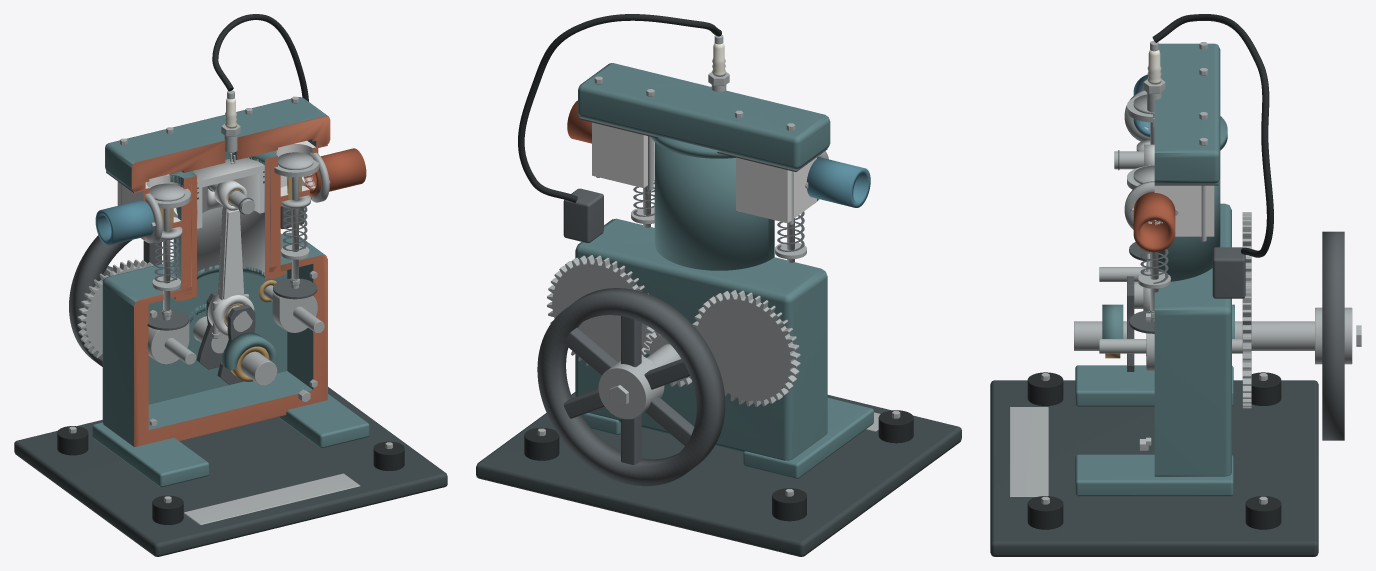
Rendered from four-stroke-engine.glb.
3 renders of one model, left to right at view 1: azimuth 30°, elevation 25°; view 2: azimuth 150°, elevation 25°; view 3: azimuth 270°, elevation 25°, orthographic. The views are drawn at different scales.
Parts seen in each view (by area): view 1: Laboratory engine cradle, Crankcase | solid cutaway casting, T-head cylinder head | sectional, Cylinder liner | honed steel, Cast foot flange, Brushed specification plate, Cast foot flange.001, Piston | ring grooves and hollow skirt, Water-jacket barrel | cutaway, Flywheel heavy rim, Intake port | wall and bore, Intake 40 tooth camshaft timing gear (+26 smaller); view 2: Laboratory engine cradle, Crankcase | solid cutaway casting, T-head cylinder head | sectional, Flywheel heavy rim, Water-jacket barrel | cutaway, Intake 40 tooth camshaft timing gear, Exhaust 40 tooth camshaft timing gear, Inlet valve pocket casting, Cast foot flange, Exhaust valve pocket casting, High voltage ignition cable | export mesh, Intake port | wall and bore (+13 smaller); view 3: Laboratory engine cradle, Crankcase | solid cutaway casting, T-head cylinder head | sectional, Cast foot flange.001, Flywheel heavy rim, Brushed specification plate, Cast foot flange, High voltage ignition cable | export mesh, Water-jacket barrel | cutaway, Exhaust port | wall and bore, Exhaust valve pocket casting, Crankshaft main journal.001 (+16 smaller).
Boxes of the visible parts, x1,y1,x2,y2 form: Laboratory engine cradle: (14, 387, 447, 556); Crankcase | solid cutaway casting: (102, 232, 327, 447); T-head cylinder head | sectional: (105, 97, 330, 191); Cylinder liner | honed steel: (191, 157, 269, 293); Cast foot flange: (92, 422, 209, 487); Brushed specification plate: (184, 473, 360, 525); Cast foot flange.001: (278, 394, 369, 448); Piston | ring grooves and hollow skirt: (193, 158, 264, 228); Water-jacket barrel | cutaway: (173, 157, 280, 300); Flywheel heavy rim: (69, 235, 131, 366); Intake port | wall and bore: (95, 200, 154, 245); Intake 40 tooth camshaft timing gear: (77, 259, 153, 360); Laboratory engine cradle: (476, 392, 961, 556); Crankcase | solid cutaway casting: (575, 218, 827, 460); T-head cylinder head | sectional: (578, 63, 830, 169); Flywheel heavy rim: (537, 288, 725, 486); Water-jacket barrel | cutaway: (654, 142, 774, 270); Intake 40 tooth camshaft timing gear: (692, 290, 800, 406); Exhaust 40 tooth camshaft timing gear: (547, 255, 654, 365); Inlet valve pocket casting: (736, 157, 816, 223); Cast foot flange: (743, 398, 873, 478); Exhaust valve pocket casting: (592, 122, 654, 188); High voltage ignition cable | export mesh: (518, 14, 721, 202); Intake port | wall and bore: (807, 157, 870, 207); Laboratory engine cradle: (990, 380, 1318, 556); Crankcase | solid cutaway casting: (1154, 203, 1231, 476); T-head cylinder head | sectional: (1154, 43, 1220, 183); Cast foot flange.001: (1075, 454, 1233, 496); Flywheel heavy rim: (1322, 231, 1344, 440); Brushed specification plate: (1009, 407, 1048, 497); Cast foot flange: (1075, 365, 1233, 406); High voltage ignition cable | export mesh: (1152, 14, 1273, 257); Water-jacket barrel | cutaway: (1158, 178, 1220, 281); Exhaust port | wall and bore: (1133, 192, 1175, 252); Exhaust valve pocket casting: (1154, 185, 1214, 236); Crankshaft main journal.001: (1235, 321, 1314, 350).
Size of the model in its own units: 0.26 by 0.3512 by 0.2488.
